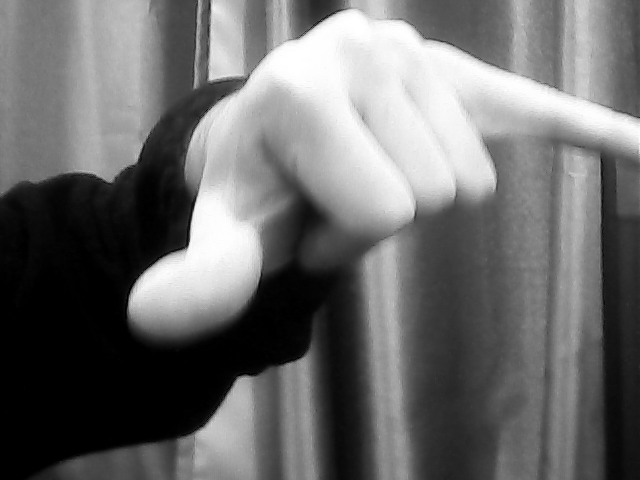aloha: (126, 6, 640, 345)
